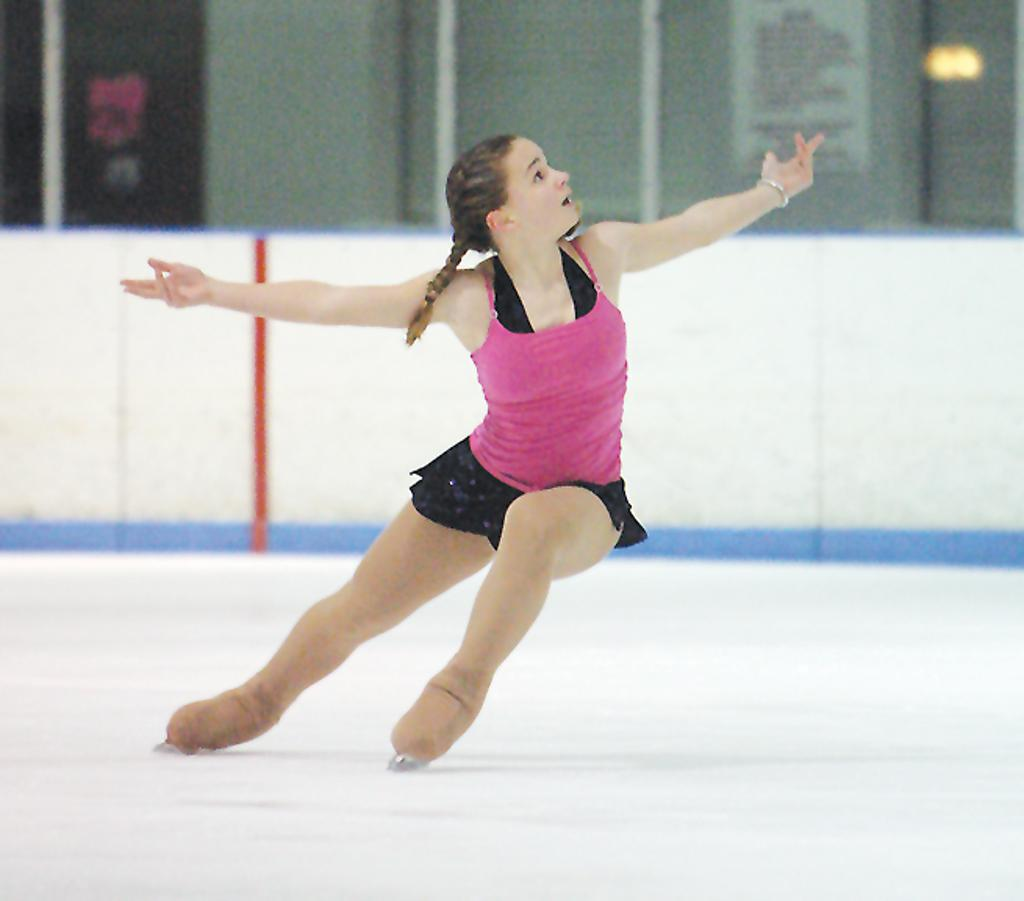face: (504, 138, 580, 238)
